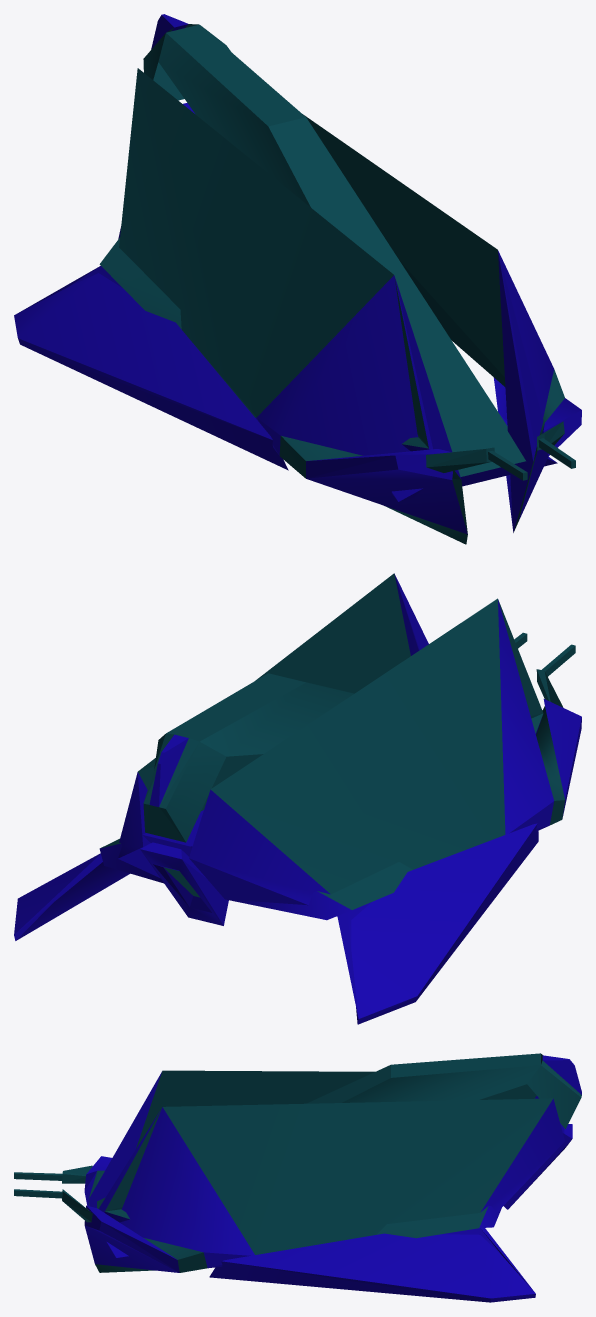
The model's file is ship3.gltf.
3 renders of one model, top to bottom at view 1: azimuth 30°, elevation 25°; view 2: azimuth 150°, elevation 25°; view 3: azimuth 270°, elevation 25°, orthographic. The views are drawn at different scales.
Visible parts, largest first — view 1: node-0; view 2: node-0; view 3: node-0.
Boxes of the visible parts, x1=… form: node-0: x1=14, y1=14, x2=581, y2=544; node-0: x1=14, y1=573, x2=581, y2=1024; node-0: x1=14, y1=1053, x2=581, y2=1302.
Bounding box in the file's own units: 494 × 340 × 846.
